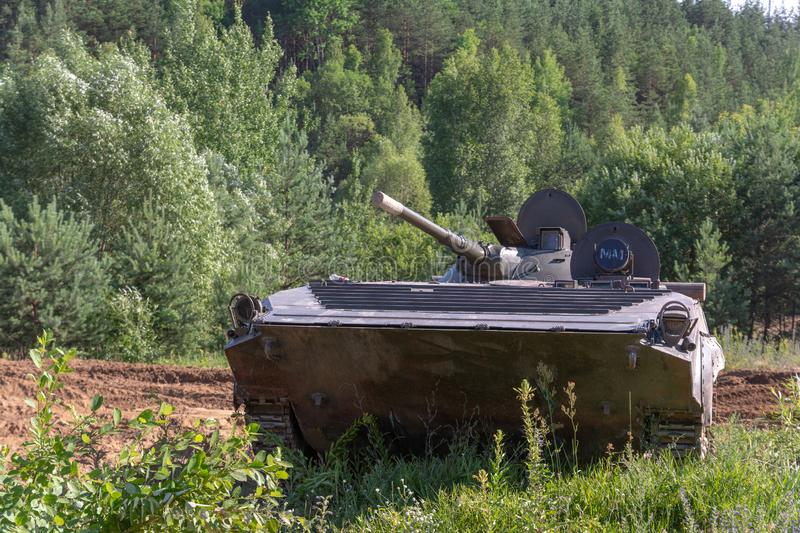bmp1: (236, 186, 707, 464)
